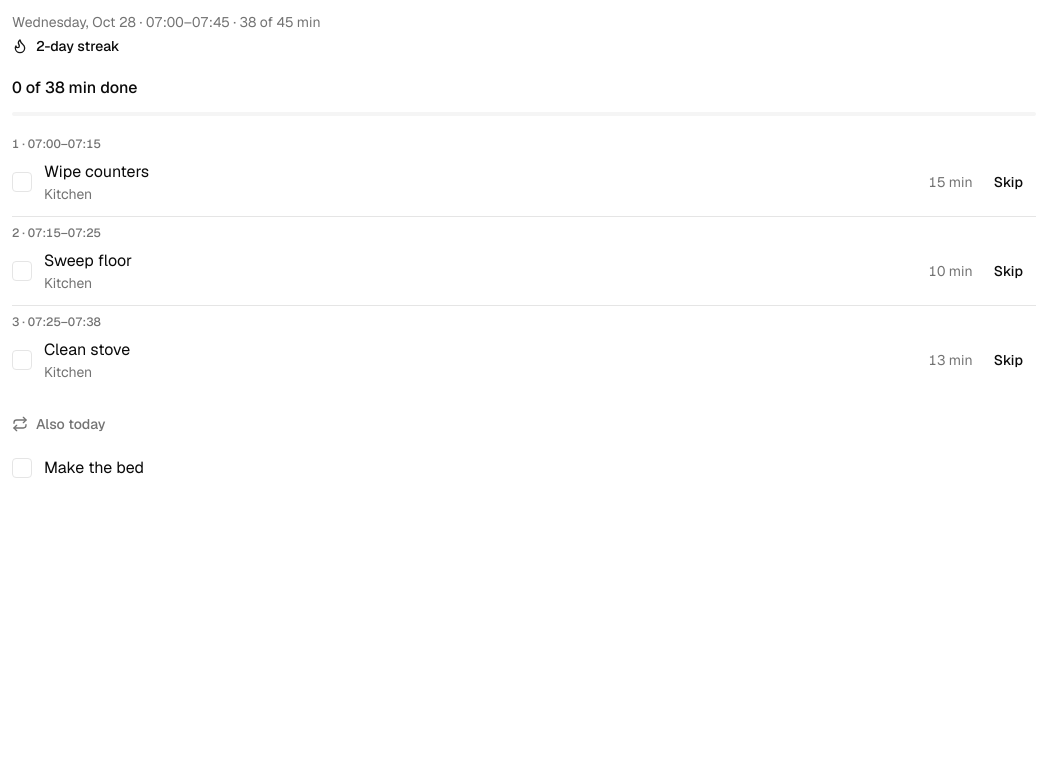
TodaySession › 009 AC3, AC5: a done task takes the minutes it took, saved on Enter
Click the checkbox named "Wipe counters" next to "Wipe counters" at (22, 182), box [12,172,32,192]
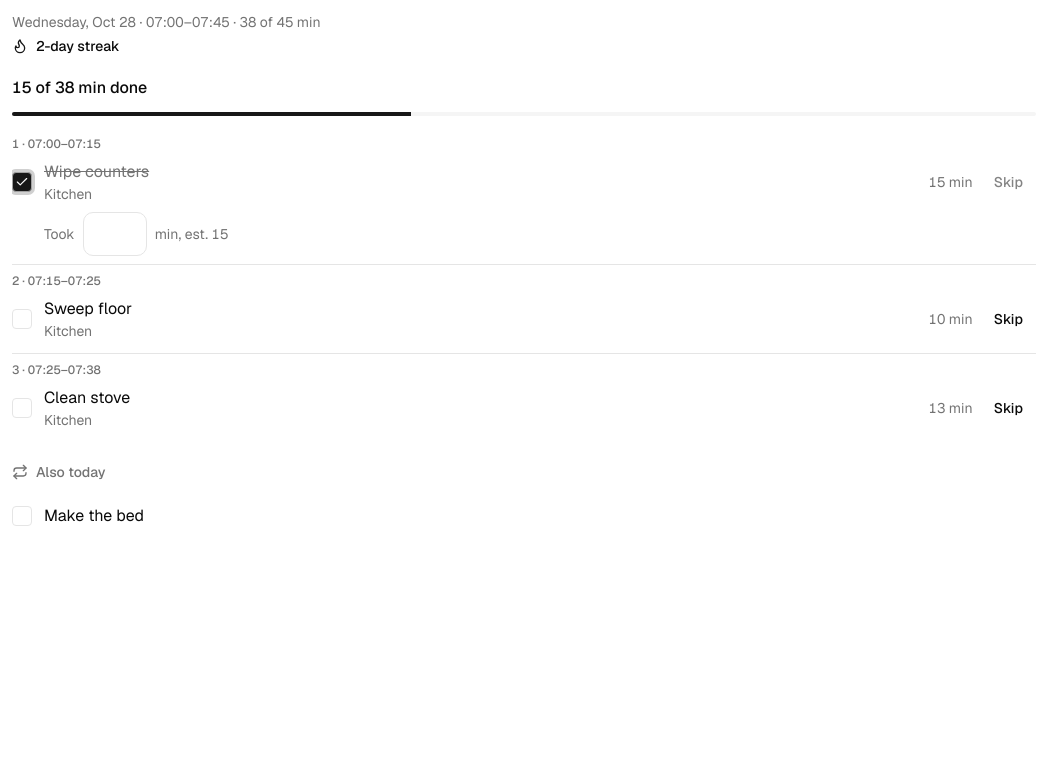
Type "12" into the field named "Minutes taken for Wipe counters" at (115, 234), box [83,212,147,256]
Then press Enter
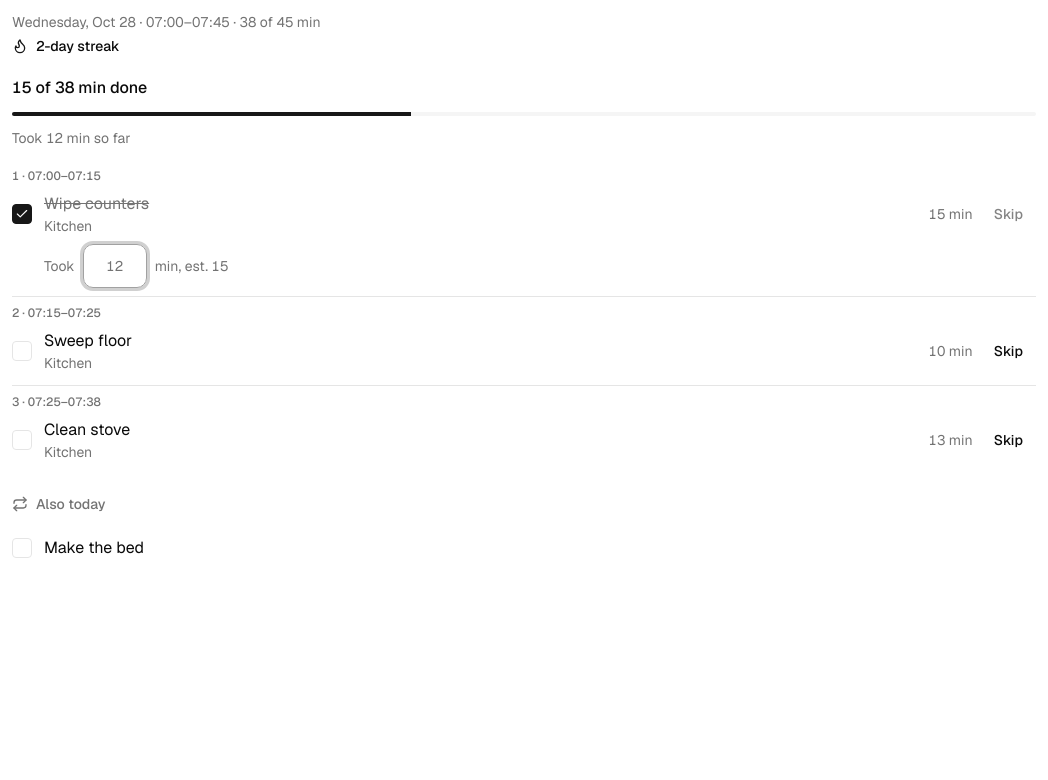
Expected: the text "15 of 38 min done" is shown, [12,77,147,98]
Expected: the text "Took 12 min so far" is shown, [12,129,130,147]
